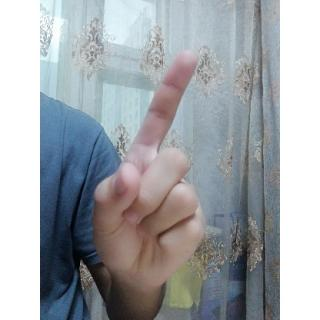BAA: (86, 48, 208, 293)
